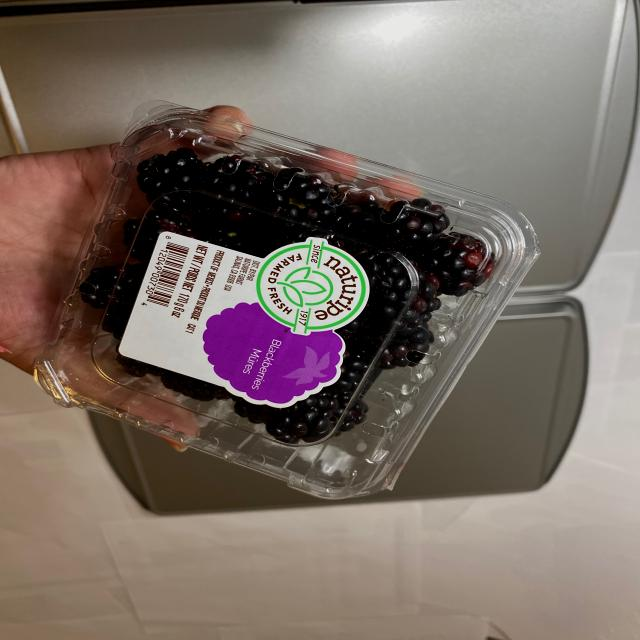blackberries: (65, 122, 527, 512)
